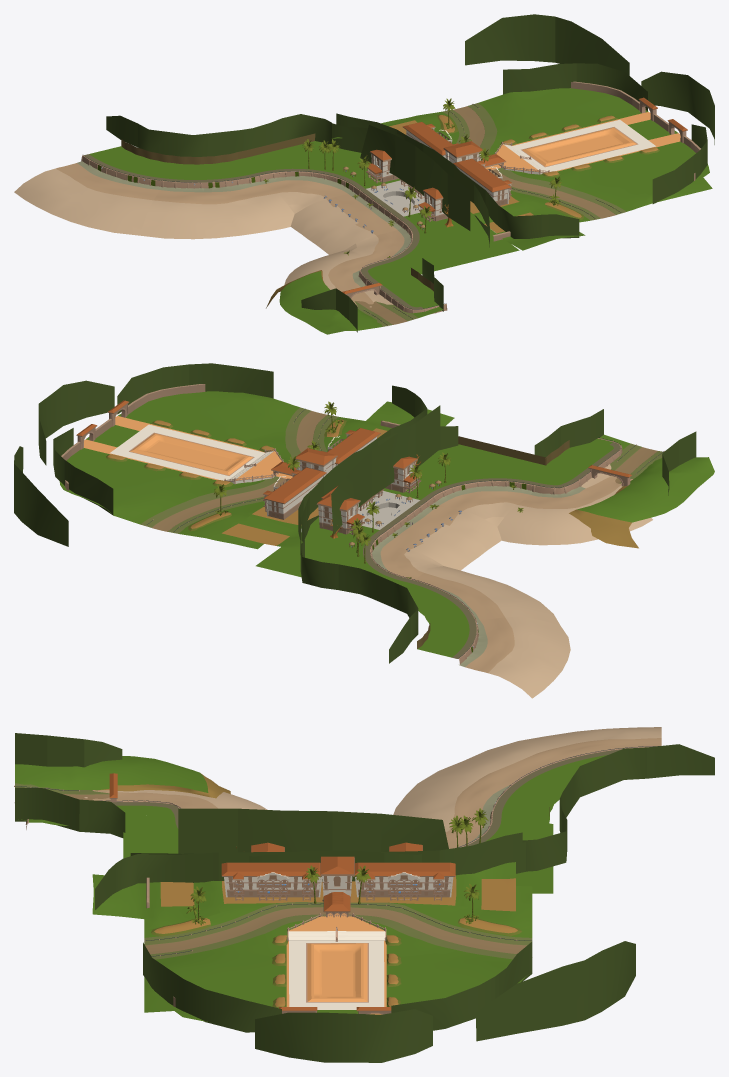
File: tropic.glb
The picture shows the model from 3 angles, top to bottom: view 1: azimuth 30°, elevation 25°; view 2: azimuth 150°, elevation 25°; view 3: azimuth 270°, elevation 25°; orthographic projection. The views are drawn at different scales.
Visible parts, largest first — view 1: Zone01, PropStatic01 (×3), Zone02, Treeline01, PlantersB, Building_Resort_Long03, Building_Resort_Long04, Building_Resort_Short09, Building_Resort_ShortMain01, Building_Resort_Short08; view 2: Zone01, PropStatic01 (×3), Zone02, Treeline01, Building_Resort_Long04, PlantersB, Building_Resort_Short09, Building_Resort_Long03, Building_Resort_Short08, Building_Resort_ShortMain01; view 3: Zone01, PropStatic01 (×3), Zone02, Treeline01, Building_Resort_Long04, Building_Resort_Long03, PlantersB, Building_Resort_ShortMain01.
Boxes of the visible parts, x1,y1,x2,y2 form: Zone01: (332, 14, 714, 250); PropStatic01 (×3): (14, 139, 447, 334); Zone02: (106, 114, 519, 298); Treeline01: (360, 125, 470, 230); PlantersB: (437, 114, 659, 219); Building_Resort_Long03: (453, 158, 512, 205); Building_Resort_Long04: (402, 122, 458, 158); Building_Resort_Short09: (366, 149, 398, 183); Building_Resort_ShortMain01: (443, 141, 482, 166); Building_Resort_Short08: (418, 187, 447, 221); Zone01: (14, 363, 454, 554); PropStatic01 (×3): (399, 409, 714, 698); Zone02: (256, 426, 632, 663); Treeline01: (331, 405, 440, 534); Building_Resort_Long04: (263, 467, 326, 519); PlantersB: (106, 419, 346, 531); Building_Resort_Short09: (316, 493, 364, 534); Building_Resort_Long03: (321, 428, 380, 465); Building_Resort_Short08: (385, 456, 421, 493); Building_Resort_ShortMain01: (295, 448, 337, 477); Zone01: (92, 832, 635, 1062); PropStatic01 (×3): (14, 727, 661, 837); Zone02: (109, 744, 714, 893); Treeline01: (178, 808, 448, 853); Building_Resort_Long04: (353, 862, 455, 900); Building_Resort_Long03: (221, 862, 322, 900); PlantersB: (151, 917, 521, 1008); Building_Resort_ShortMain01: (320, 856, 354, 897).
Size of the model in its own units: 422 by 57.28 by 347.
